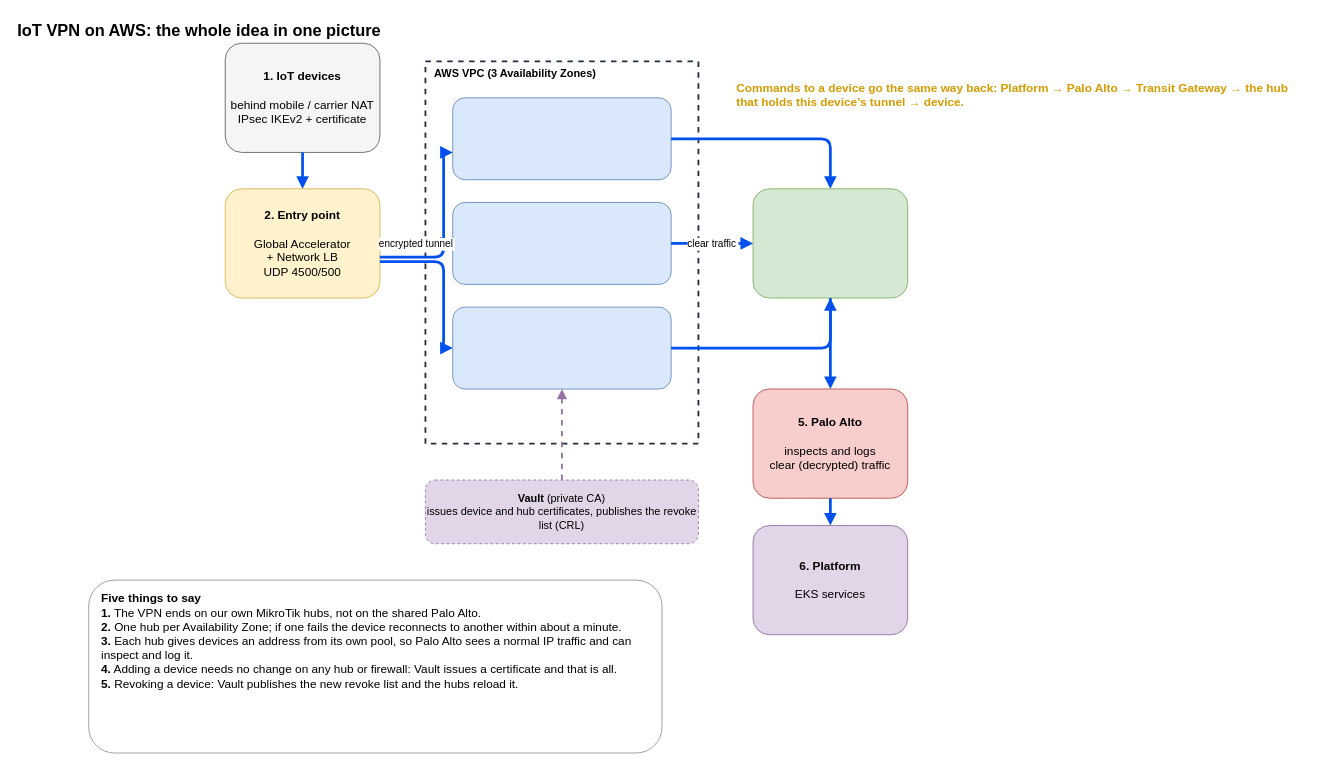
This 1323x769 diagram has some shape labels left out. Here are the shapes that lost their labels. From the top down, the centre of each, then its label:
the point at 561,138: 3. VPN hub, AZ-a MikroTik router terminates IPsec
the point at 561,243: 3. VPN hub, AZ-b MikroTik router terminates IPsec
the point at 830,243: 4. Transit Gateway sends traffic to the firewall
the point at 561,347: 3. VPN hub, AZ-c MikroTik router terminates IPsec
